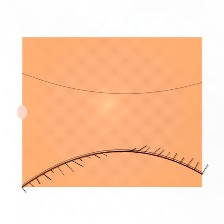pinguecula_lesion: (34, 106, 66, 131)
